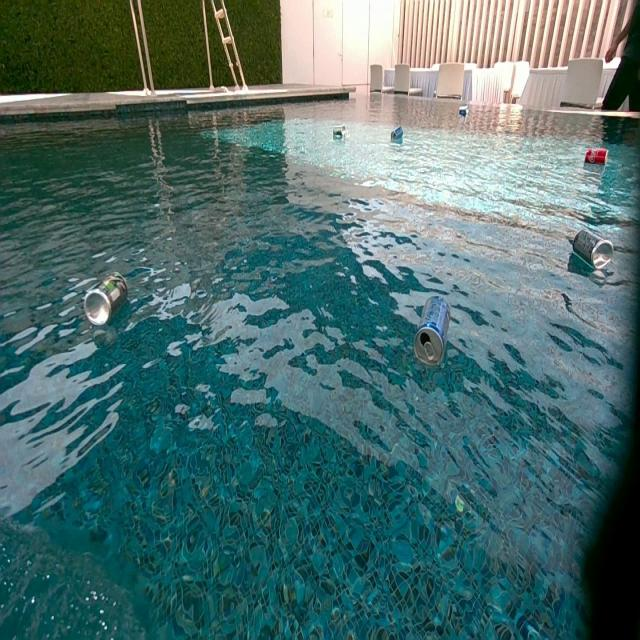Cans: (412, 295, 450, 370), (84, 272, 128, 326), (577, 230, 615, 268), (586, 148, 608, 164), (334, 126, 347, 141), (390, 128, 404, 141), (459, 107, 468, 116)
